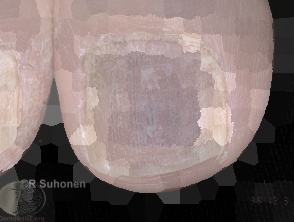Nail_psoriasis: (66, 24, 233, 188), (1, 34, 50, 175)
